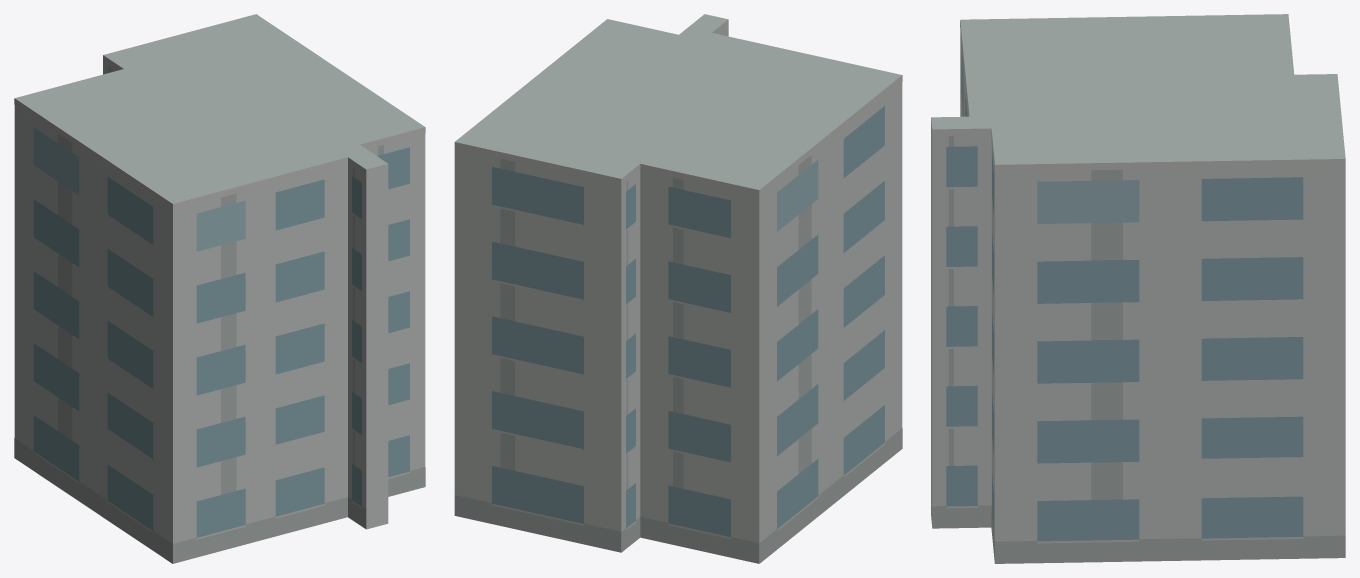
The model's file is survey-upis-32543077.glb.
The picture shows the model from 3 angles, left to right: view 1: azimuth 30°, elevation 25°; view 2: azimuth 150°, elevation 25°; view 3: azimuth 270°, elevation 25°; orthographic projection. The views are drawn at different scales.
Visible parts, largest first — view 1: survey-upis-32543077.tmp; view 2: survey-upis-32543077.tmp; view 3: survey-upis-32543077.tmp.
Boxes of the visible parts, <box> form: survey-upis-32543077.tmp: <box>14,14,425,563</box>; survey-upis-32543077.tmp: <box>454,14,902,563</box>; survey-upis-32543077.tmp: <box>931,14,1345,563</box>.
Size of the model in its own units: 11.18 by 13.78 by 12.98.
